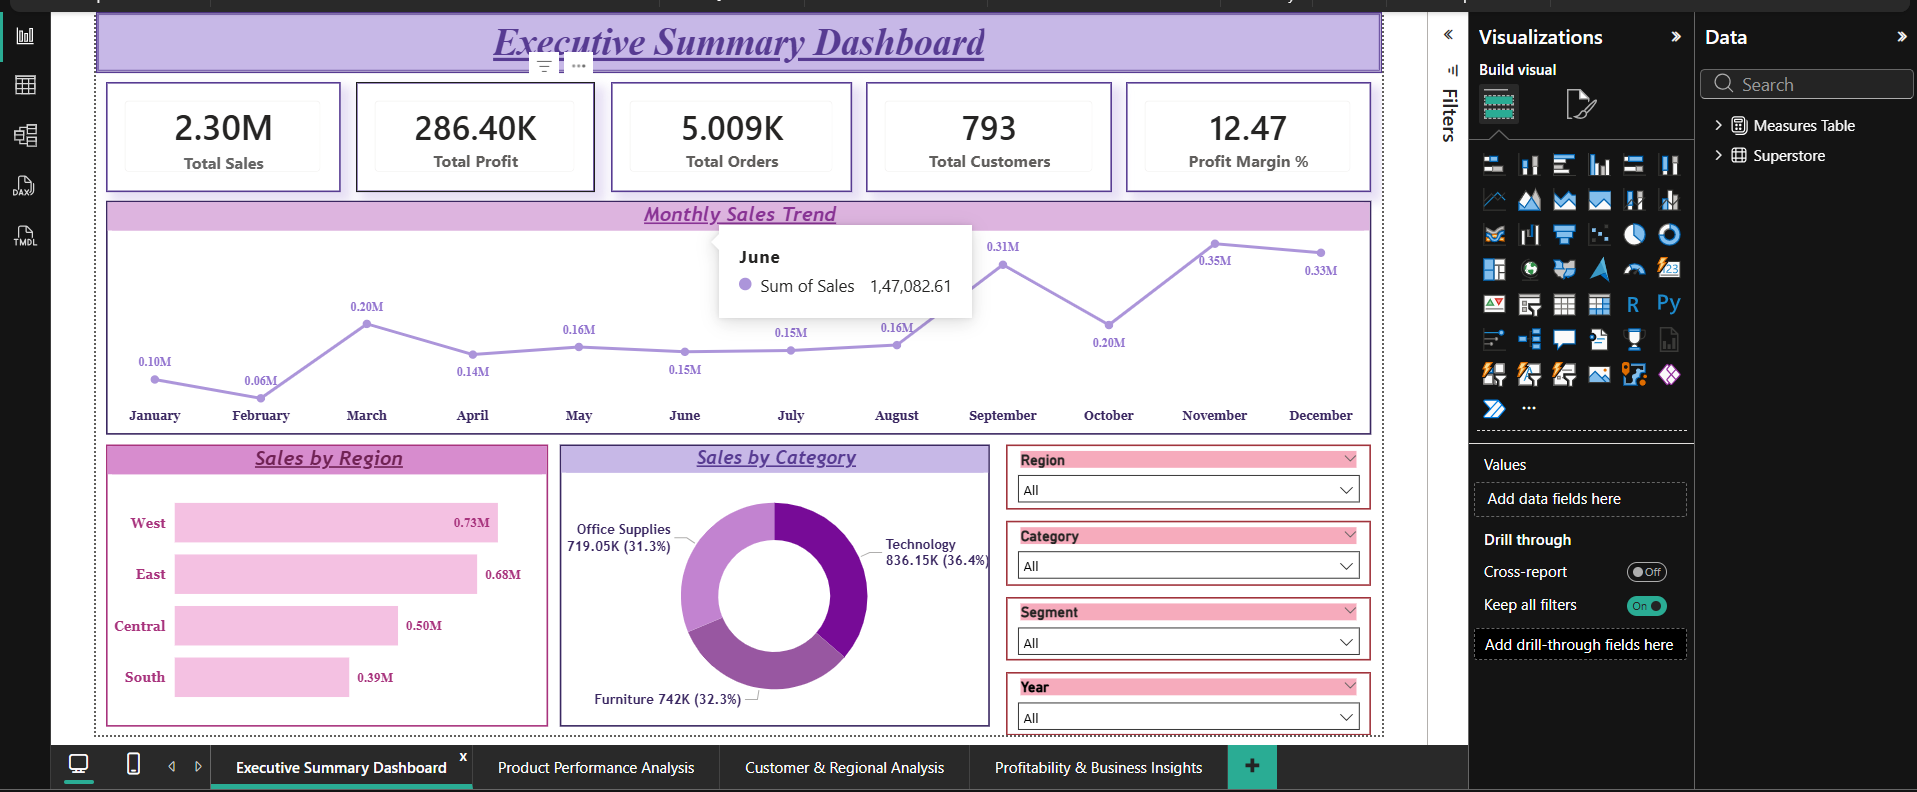

The page's visual inventory and layout, read from the dashboard file:
{"tool":"powerbi","page":{"name":"Executive Summary Dashboard","canvas":[1280,720],"ordinal":0},"visuals":[{"type":"shape","box":[0,0,1280,61],"z":0},{"type":"cardVisual","fields":{"Data":["Sum(Superstore.Sales)"]},"box":[10,69.7,233.9,109.5],"z":1000},{"type":"cardVisual","fields":{"Data":["Sum(Superstore.Profit)"]},"box":[258.7,69.7,237.6,109.5],"z":2000},{"type":"cardVisual","fields":{"Data":["Count(Superstore.Order ID)"]},"box":[512.5,69.7,240.1,109.5],"z":3000},{"type":"cardVisual","fields":{"Data":["Measures Table.Profit Margin %"]},"box":[1025,69.7,243.8,109.5],"z":4000},{"type":"cardVisual","fields":{"Data":["Count(Superstore.Customer ID)"]},"box":[766.3,69.7,245.1,109.5],"z":5000},{"type":"lineChart","title":"Monthly Sales Trend","fields":{"Y":["Sum(Superstore.Sales)"],"Category":["Superstore.Order Date.Variation.Date Hierarchy.Month"]},"box":[10,187.8,1258.9,232.6],"z":6000},{"type":"clusteredBarChart","title":"Sales by Region","fields":{"Category":["Superstore.Region"],"Y":["Sum(Superstore.Sales)"]},"box":[10,430.4,440.4,281.1],"z":7000},{"type":"donutChart","title":"Sales by Category","fields":{"Category":["Superstore.Category"],"Y":["Sum(Superstore.Sales)"]},"box":[461.5,430.4,427.9,281.1],"z":8000},{"type":"slicer","fields":{"Values":["Superstore.Region"]},"box":[905.6,430.4,363.2,64.7],"z":9000},{"type":"slicer","fields":{"Values":["Superstore.Category"]},"box":[905.6,506.3,363.2,64.7],"z":10000},{"type":"slicer","fields":{"Values":["Superstore.Segment"]},"box":[905.6,582.2,363.2,63.4],"z":11000},{"type":"slicer","fields":{"Values":["Superstore.Order Date.Variation.Date Hierarchy.Year"]},"box":[905.6,656.8,363.2,63.4],"z":12000}]}

Visuals, with their boxes in screenshot pixels (x1, y1, x2, y2):
shape: <bbox>35, 0, 1377, 64</bbox>
cardVisual - Sum(Superstore.Sales): <bbox>45, 73, 291, 188</bbox>
cardVisual - Sum(Superstore.Profit): <bbox>306, 73, 555, 188</bbox>
cardVisual - Count(Superstore.Order ID): <bbox>572, 73, 824, 188</bbox>
cardVisual - Measures Table.Profit Margin %: <bbox>1110, 73, 1365, 188</bbox>
cardVisual - Count(Superstore.Customer ID): <bbox>839, 73, 1096, 188</bbox>
"Monthly Sales Trend" lineChart: <bbox>45, 197, 1366, 441</bbox>
"Sales by Region" clusteredBarChart: <bbox>45, 451, 507, 746</bbox>
"Sales by Category" donutChart: <bbox>519, 451, 968, 746</bbox>
slicer - Superstore.Region: <bbox>985, 451, 1365, 519</bbox>
slicer - Superstore.Category: <bbox>985, 531, 1365, 599</bbox>
slicer - Superstore.Segment: <bbox>985, 611, 1365, 677</bbox>
slicer - Superstore.Order Date.Variation.Date Hierarchy.Year: <bbox>985, 689, 1365, 755</bbox>
